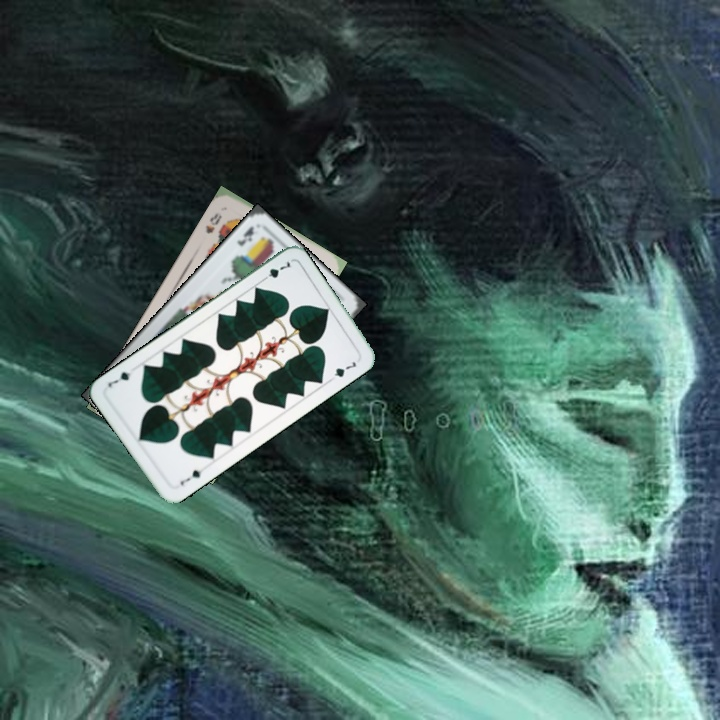EK: (233, 222, 256, 249)
G7: (257, 257, 294, 284), (176, 466, 204, 488)
S8: (201, 208, 224, 236)
